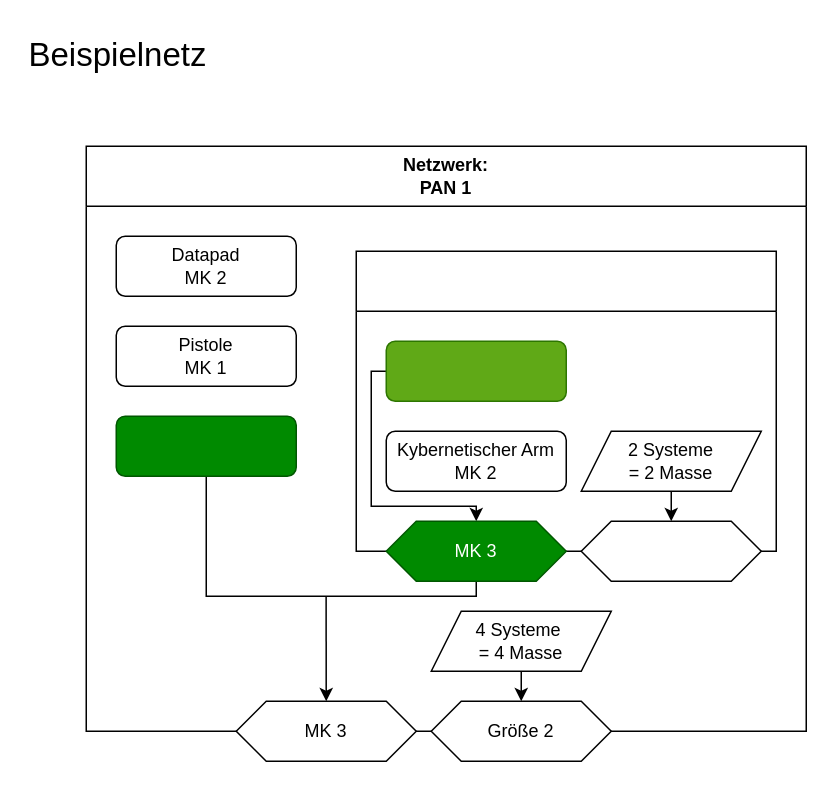
This 833x788 diagram has some shape labels left out. The shapes that lost their labels are listed below. From the top down, each one's box as (x1, y1, x2, y2) in pixels, then its label:
(385, 340, 566, 401): Neuro-Interface MK 3
(355, 250, 776, 551): Sub-Netzwerk: Cyberware
(115, 415, 296, 476): Panzerung MK 3
(580, 520, 761, 581): Größe 1
